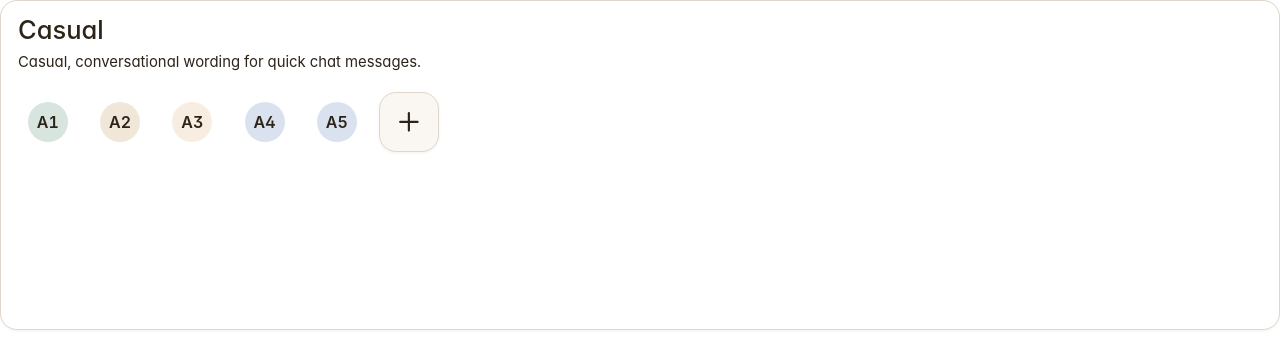
Test: Write Profiles rule UI › collapses large grouped app sets behind a plus icon
Click the button named "Show 1 more profiles" at (409, 122), box [379,92,439,152]
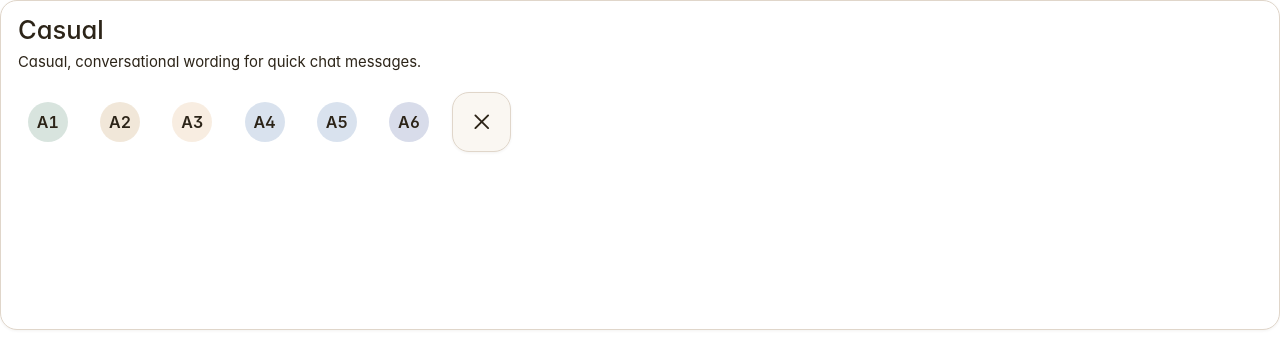
Expected: the button named "Show 1 more profiles" is shown, [452,92,511,152]
Expected: the button named "Edit Profile 6" is shown, [379,92,439,152]
